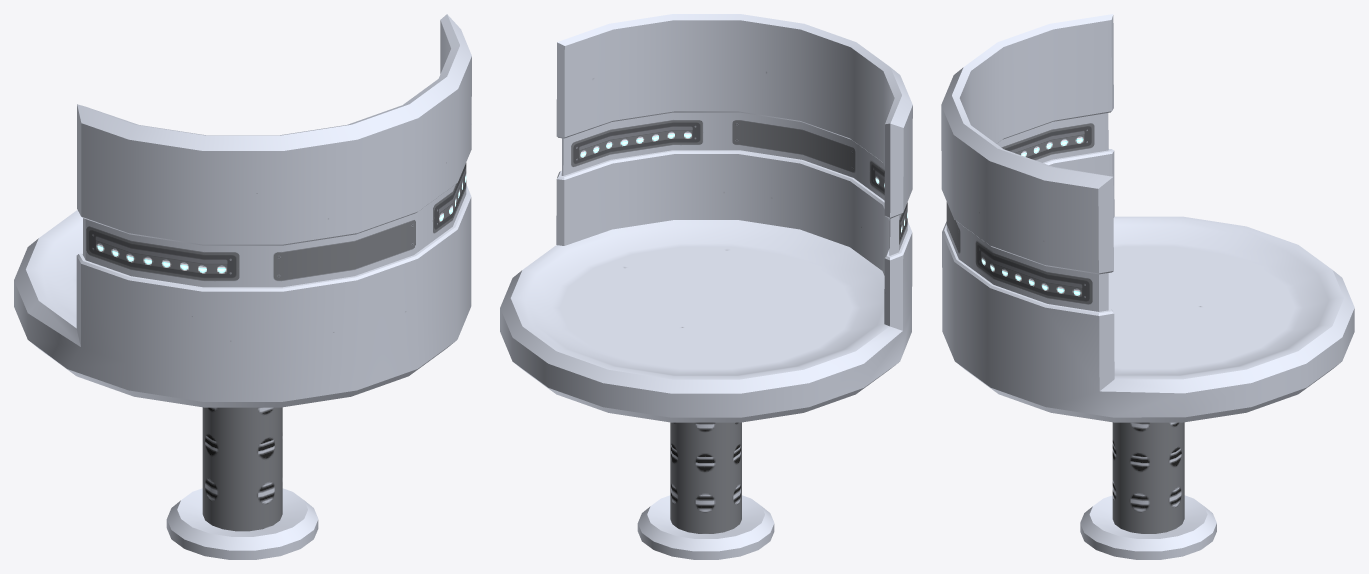
Rendered from Chair_LP.fbx.
3 renders of one model, left to right at view 1: azimuth 30°, elevation 25°; view 2: azimuth 150°, elevation 25°; view 3: azimuth 270°, elevation 25°, orthographic. The views are drawn at different scales.
Parts seen in each view (by area): view 1: chair_lp; view 2: chair_lp; view 3: chair_lp.
Part boxes in pixels (box(x1,y1,x2,y2)): chair_lp: box(14, 14, 471, 559); chair_lp: box(500, 14, 912, 559); chair_lp: box(941, 14, 1354, 559).
Bounding box in the file's own units: 47.36 × 56.04 × 48.16.
